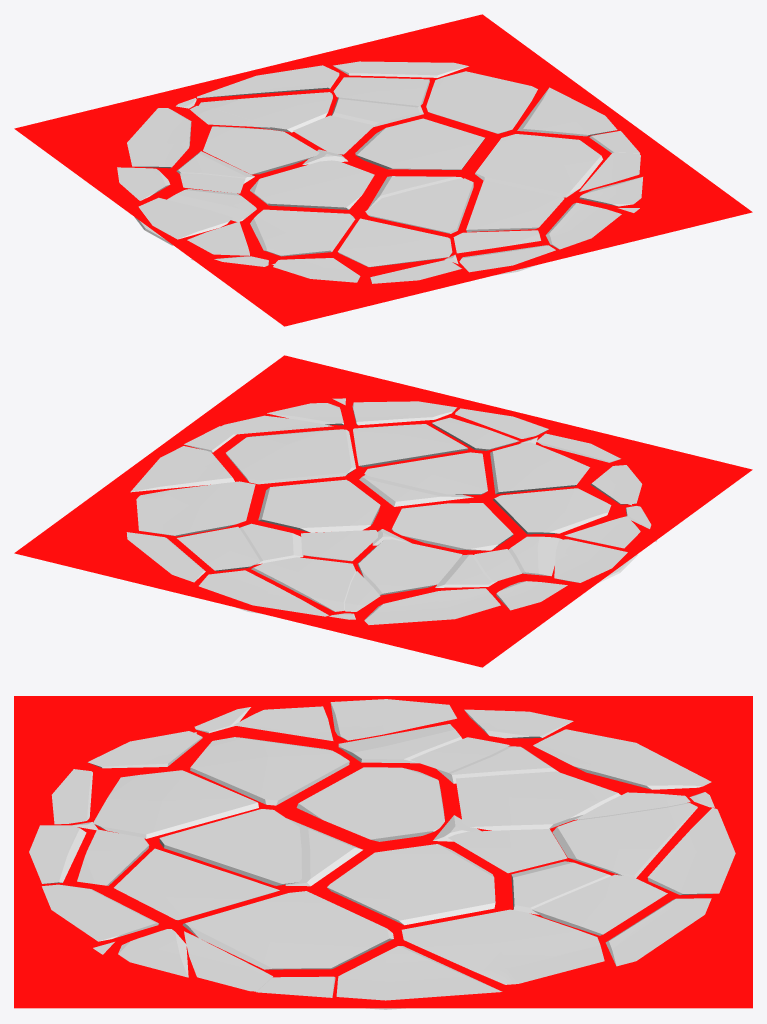
Rendered from SM_ResourceArea.fbx.
3 views of the same model, one above another, from view 1: azimuth 30°, elevation 25°; view 2: azimuth 150°, elevation 25°; view 3: azimuth 270°, elevation 25° (orthographic). The views are drawn at different scales.
Visible parts, largest first — view 1: Fractured, Glow; view 2: Fractured, Glow; view 3: Fractured, Glow.
Boxes of the visible parts, left/top/right/bottom form: Fractured: left=117, top=61, right=642, bottom=283; Glow: left=14, top=14, right=752, bottom=326; Fractured: left=126, top=398, right=656, bottom=624; Glow: left=14, top=355, right=752, bottom=667; Fractured: left=29, top=699, right=735, bottom=1009; Glow: left=14, top=696, right=752, bottom=1008.
Size of the model in its own units: 95.01 by 1.08 by 94.3.
